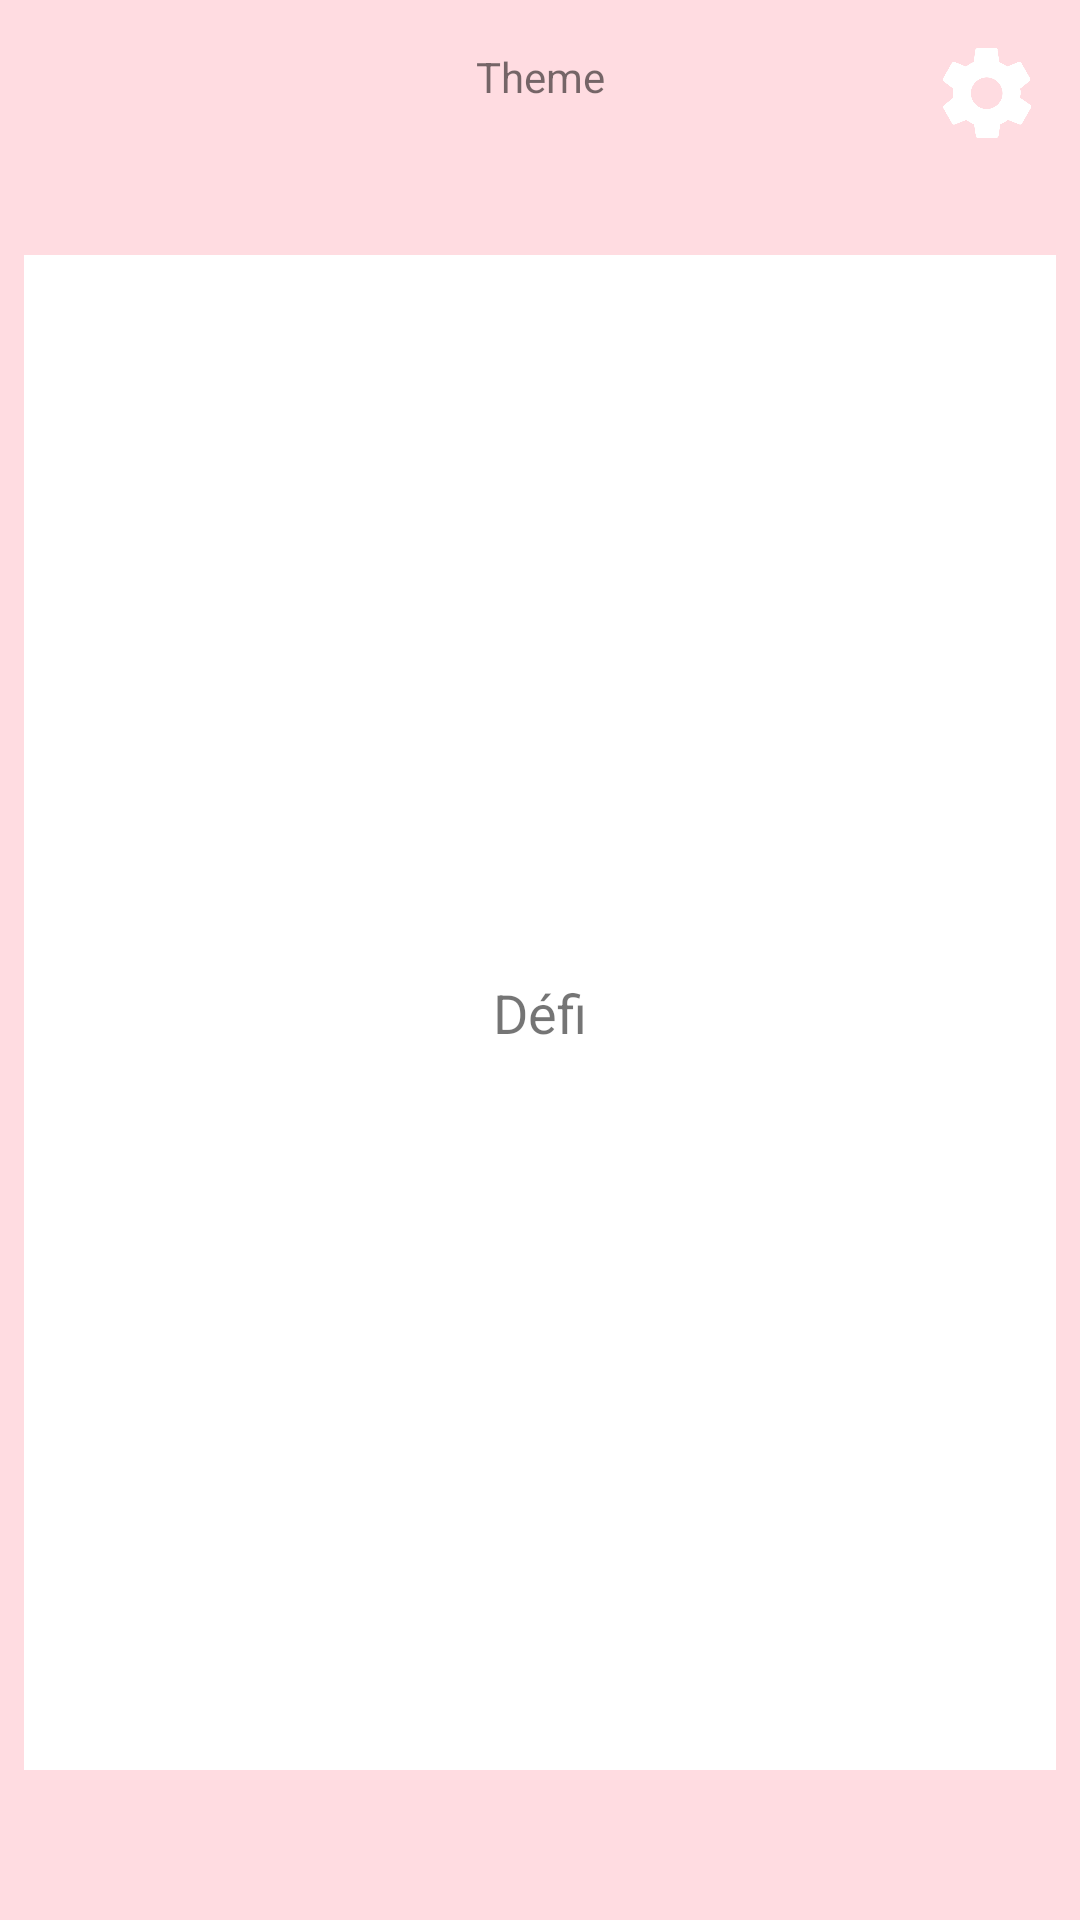

Screen size 1080 × 1920. Icon name, then its box in pixels as (x1, y1, x2, y2):
preference: (943, 48, 1031, 138)
